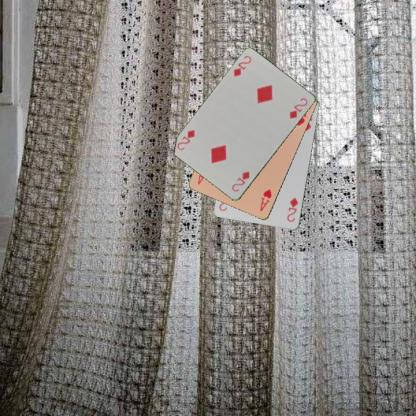2d: (229, 168, 251, 194), (231, 53, 253, 78), (284, 195, 300, 223)
Ah: (257, 186, 273, 212)
